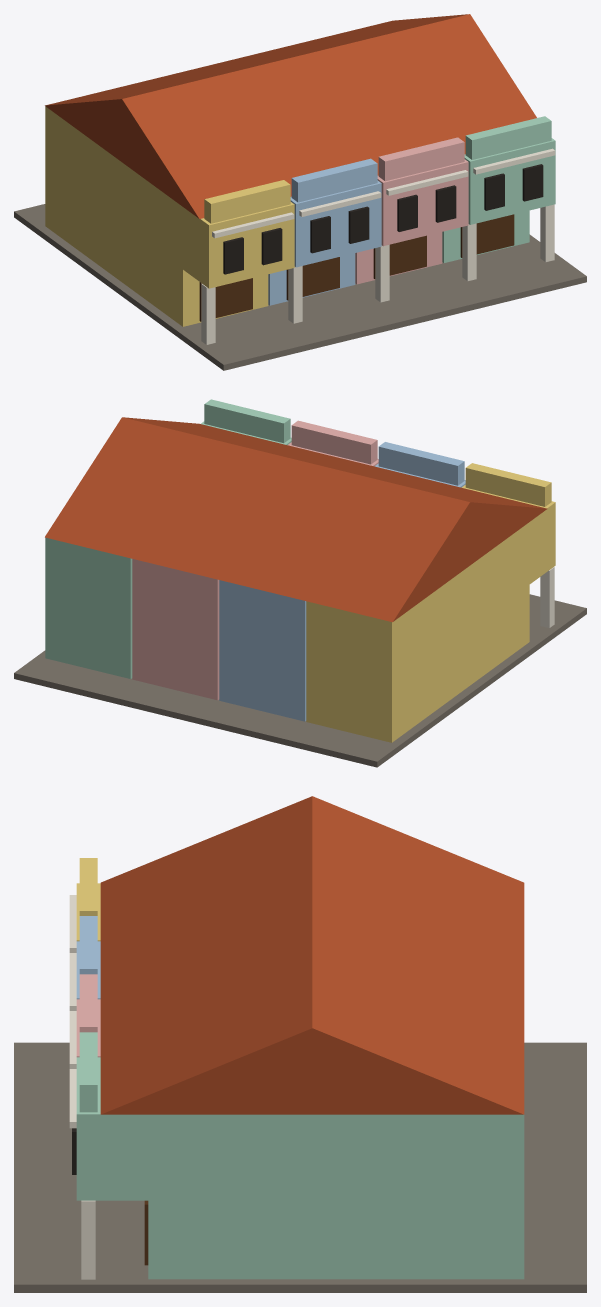
The model's file is zone_C_d2_e2.glb.
3 views of the same model, one above another, from view 1: azimuth 30°, elevation 25°; view 2: azimuth 150°, elevation 25°; view 3: azimuth 270°, elevation 25° (orthographic). The views are drawn at different scales.
Parts seen in each view (by area): view 1: zone_C_d2_e2; view 2: zone_C_d2_e2; view 3: zone_C_d2_e2.
Boxes of the visible parts, <box> form: zone_C_d2_e2: <box>14,14,586,370</box>; zone_C_d2_e2: <box>14,399,586,767</box>; zone_C_d2_e2: <box>14,796,586,1292</box>.
Size of the model in its own units: 0.96 by 0.48 by 0.96.
